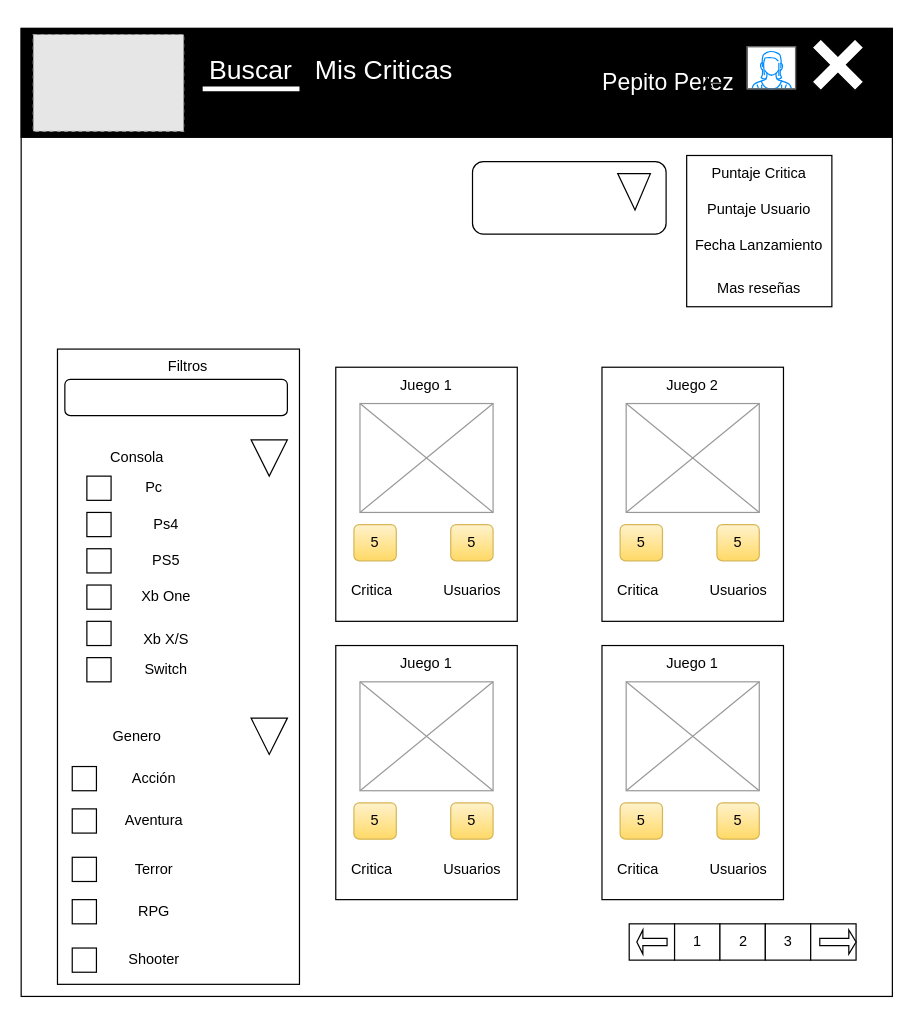
Image size: 914x1018. Some labels were removed from this diagram. Grey dashed boxes stand in for pictures. Here are the shapes that lost their labels. From the top down, the box of each, then its label:
(471, 160, 666, 234): Filtrar por (mayor a menor)
(64, 378, 287, 416): Nombre
